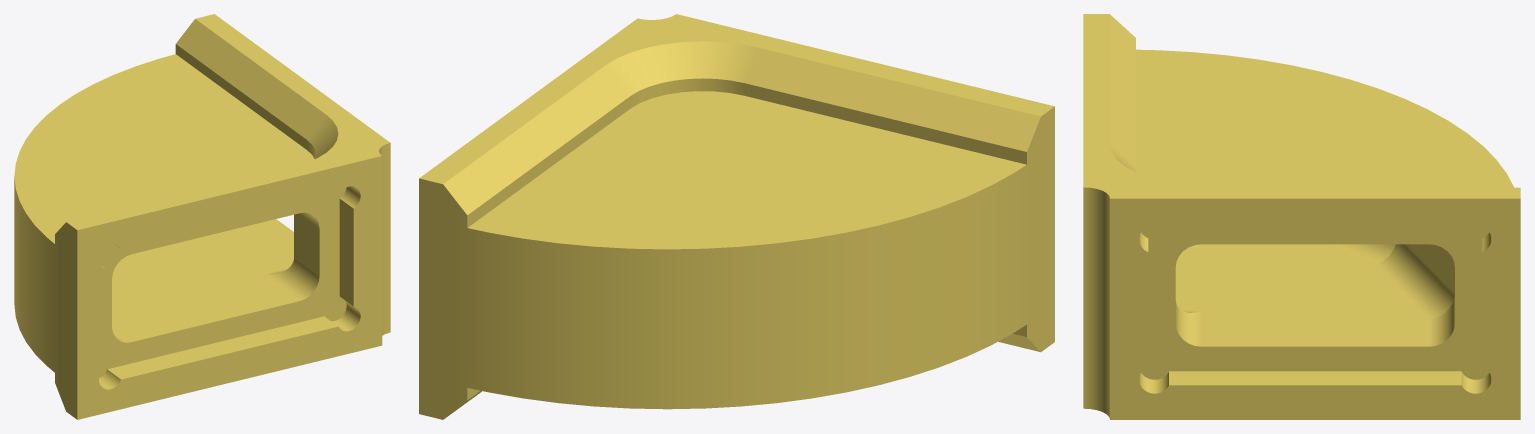
File: mbends.glb
3 views of the same model, side by side, from view 1: azimuth 30°, elevation 25°; view 2: azimuth 150°, elevation 25°; view 3: azimuth 270°, elevation 25° (orthographic). The views are drawn at different scales.
Visible parts, largest first — view 1: QFB20-SA-H90; view 2: QFB20-SA-H90; view 3: QFB20-SA-H90.
Part boxes in pixels (x1,y1,x2,y2): QFB20-SA-H90: (14,14,390,419); QFB20-SA-H90: (419,14,1054,419); QFB20-SA-H90: (1083,14,1520,419).
Size of the model in its own units: 0.0167 by 0.00932 by 0.0167.
